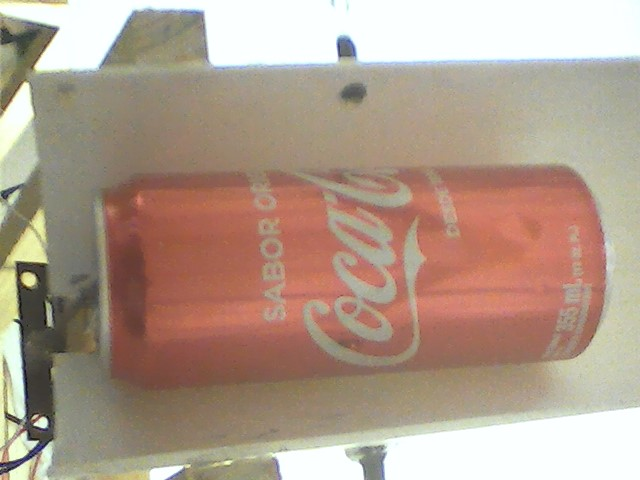lata: (86, 161, 617, 392)
